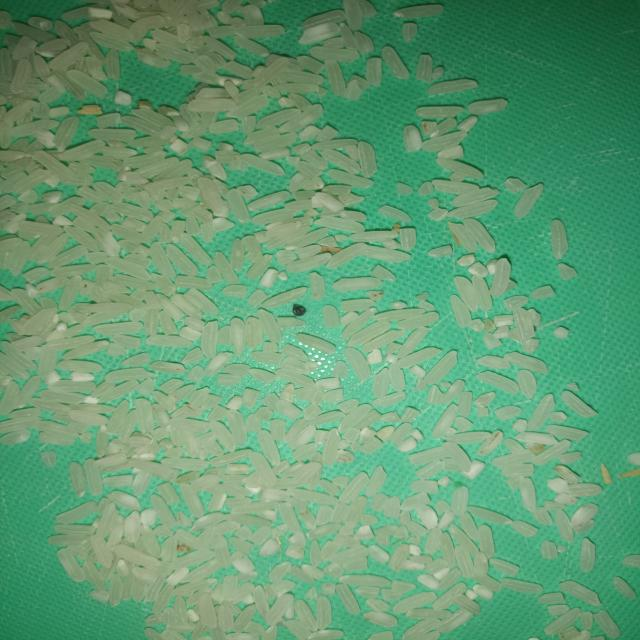Kerikil: (286, 295, 315, 324)
